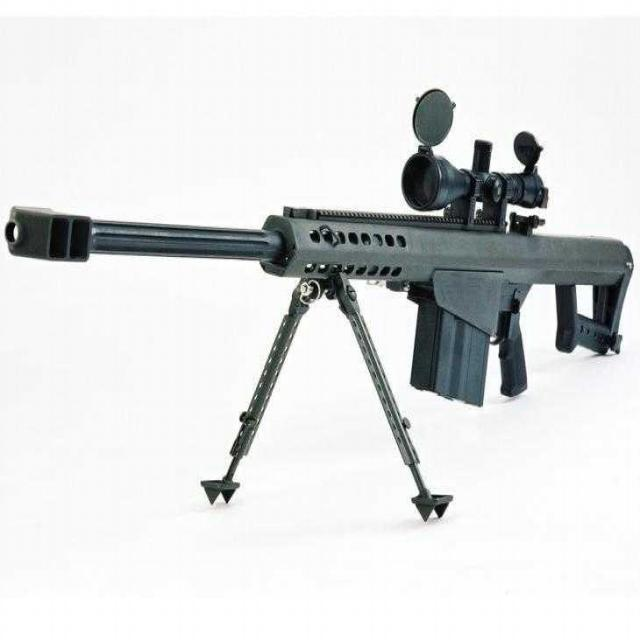weapon: (1, 84, 635, 552)
